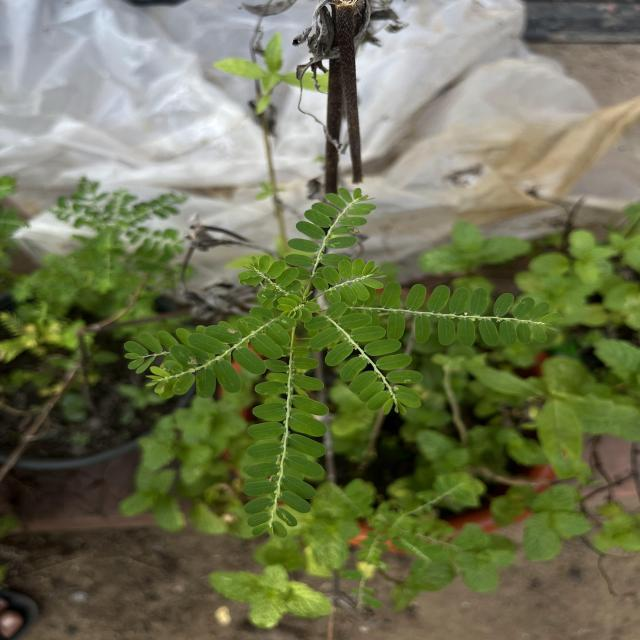Phyllanthus niruri: (238, 342, 331, 538), (303, 300, 426, 417), (366, 277, 562, 349), (164, 301, 294, 398), (286, 186, 378, 280), (312, 258, 388, 305), (236, 253, 304, 303)
